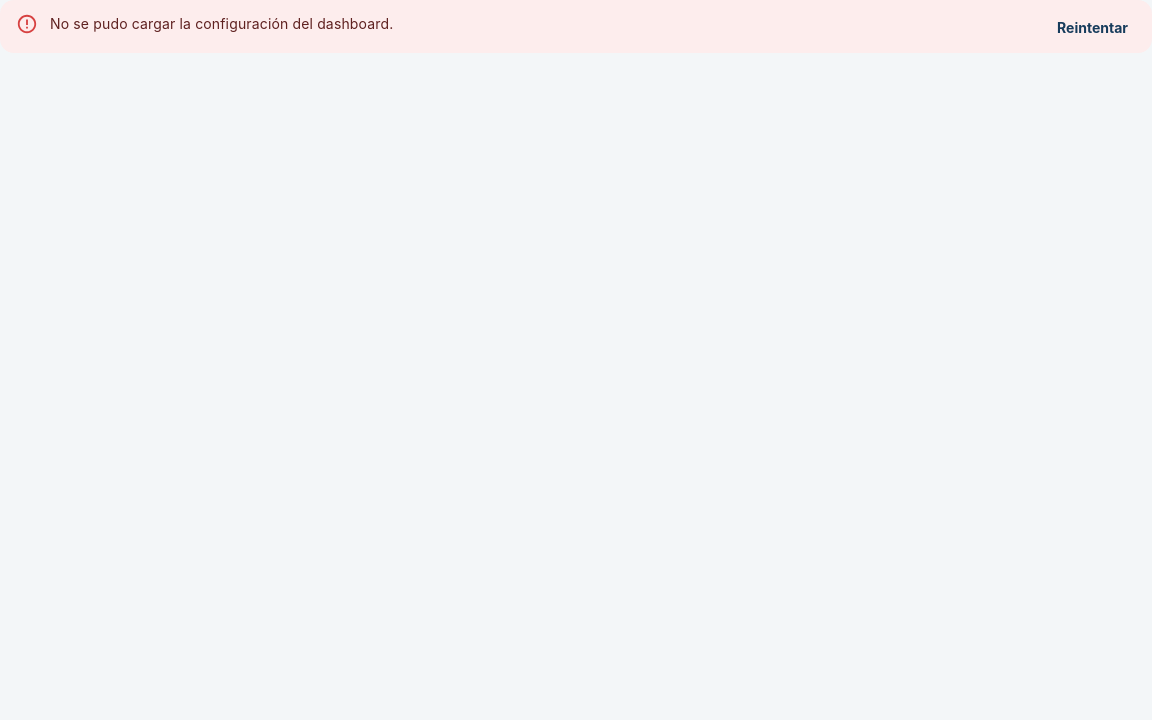
retries configuration before starting a session
Click the button "Reintentar" at (1092, 28), box [1041, 10, 1144, 46]
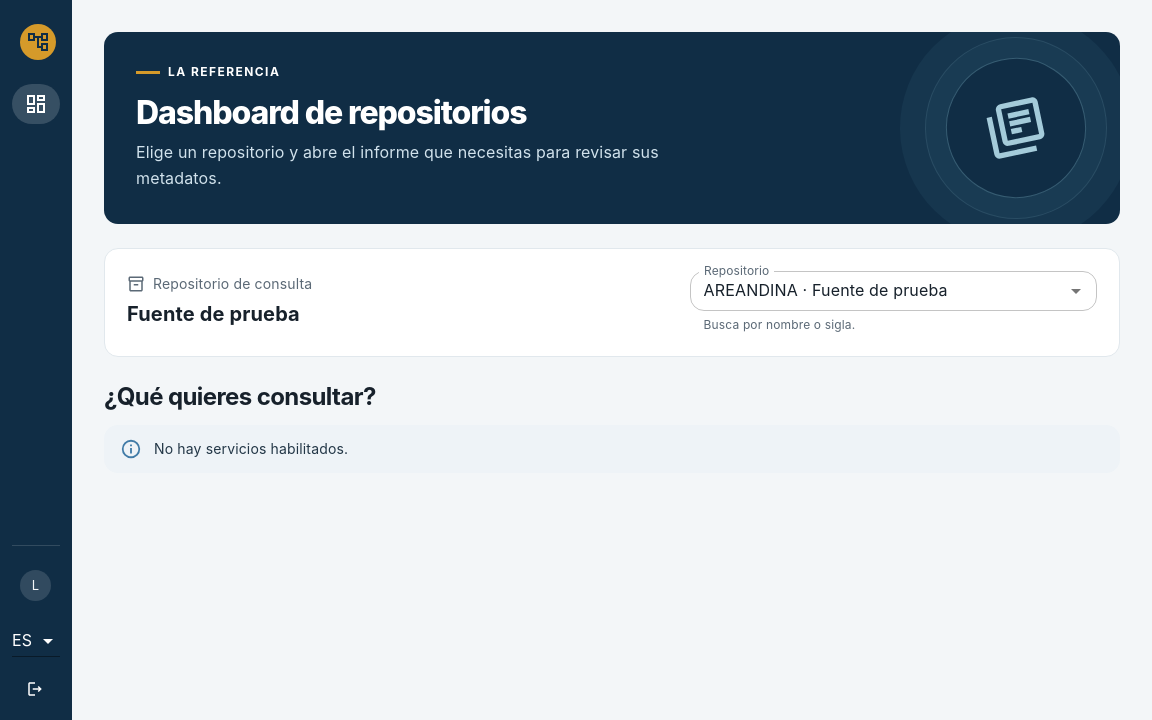
Now the text "No hay servicios habilitados." is shown, box [154, 440, 348, 457]
